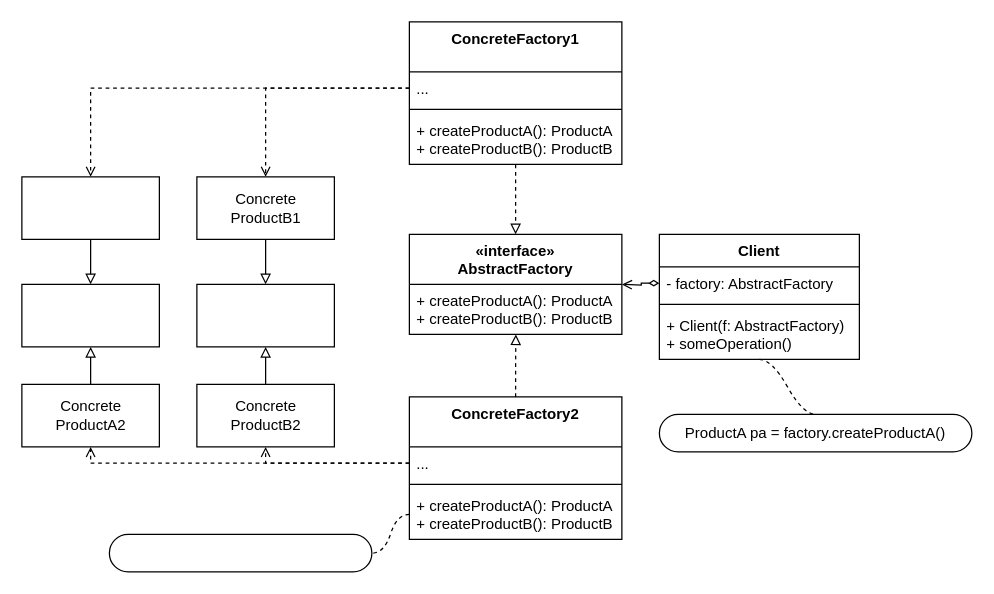
Some shapes in this 994 by 594 pixel diagram are drawn without their labels. The centre of each missing label's shape, as x and y in pixels:
Concrete ProductA1: the point at 90,207
ProductA: the point at 90,315
ProductB: the point at 265,315
return new ConcreteProduct2A(): the point at 240,552
